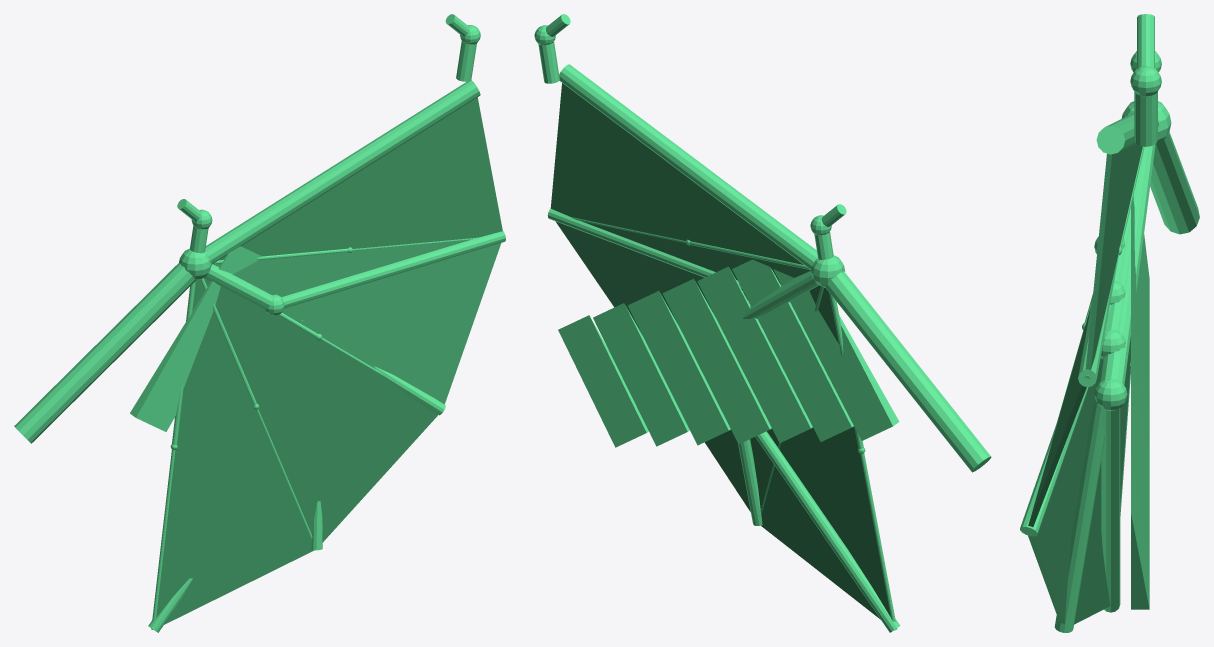
Rendered from WindWingRight.obj.
3 views of the same model, side by side, from view 1: azimuth 30°, elevation 25°; view 2: azimuth 150°, elevation 25°; view 3: azimuth 270°, elevation 25° (orthographic). The views are drawn at different scales.
Visible parts, largest first — view 1: WindWingRight; view 2: WindWingRight; view 3: WindWingRight.
Part boxes in pixels (x1,y1,x2,y2): WindWingRight: (14,14,505,632); WindWingRight: (534,14,991,632); WindWingRight: (1020,14,1199,632).
Size of the model in its own units: 6.81 by 7.61 by 1.53.
